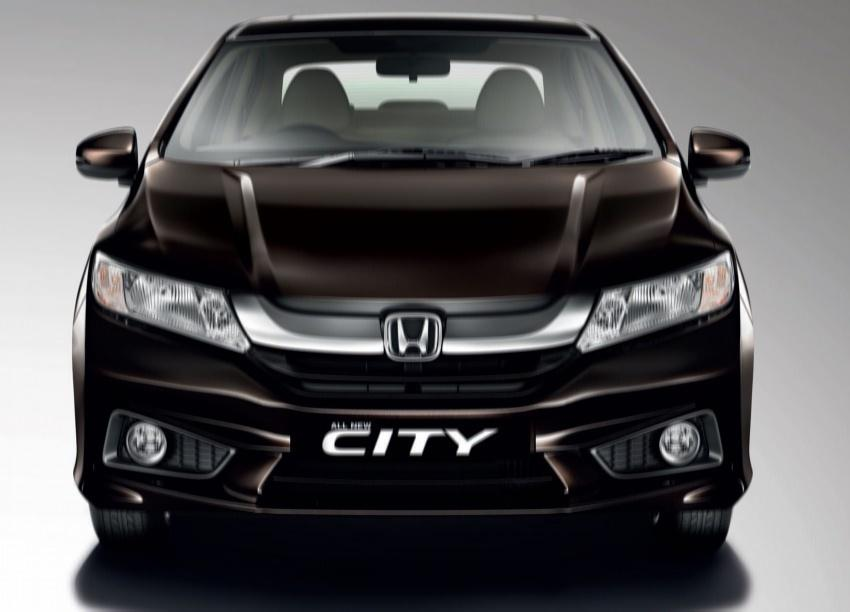Car hood: (97, 162, 726, 308)
Front bumper: (67, 314, 758, 527)
Headlight - -L-: (574, 245, 738, 360)
Headlight - -R-: (92, 246, 251, 355)
Side mirror - -L-: (680, 127, 750, 189)
Side mirror - -R-: (77, 127, 147, 188)
